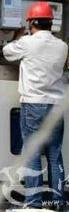hard-hat: (0, 82, 12, 96)
